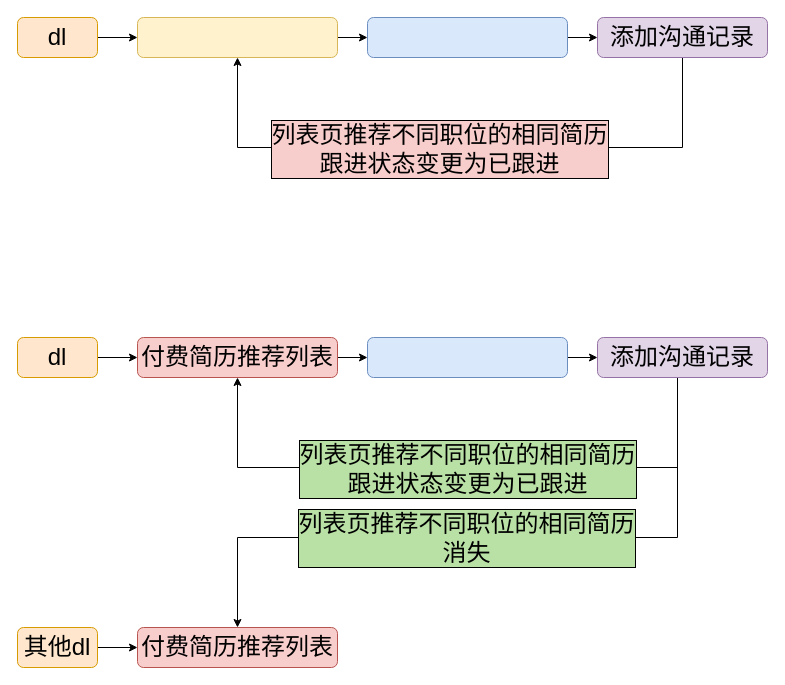
This 785x685 diagram has some shape labels left out. Each missing label, with the centre of its shape:
付费简历详情页: the point at 467,357
免费简历推荐列表: the point at 237,37
免费简历详情页: the point at 467,37
